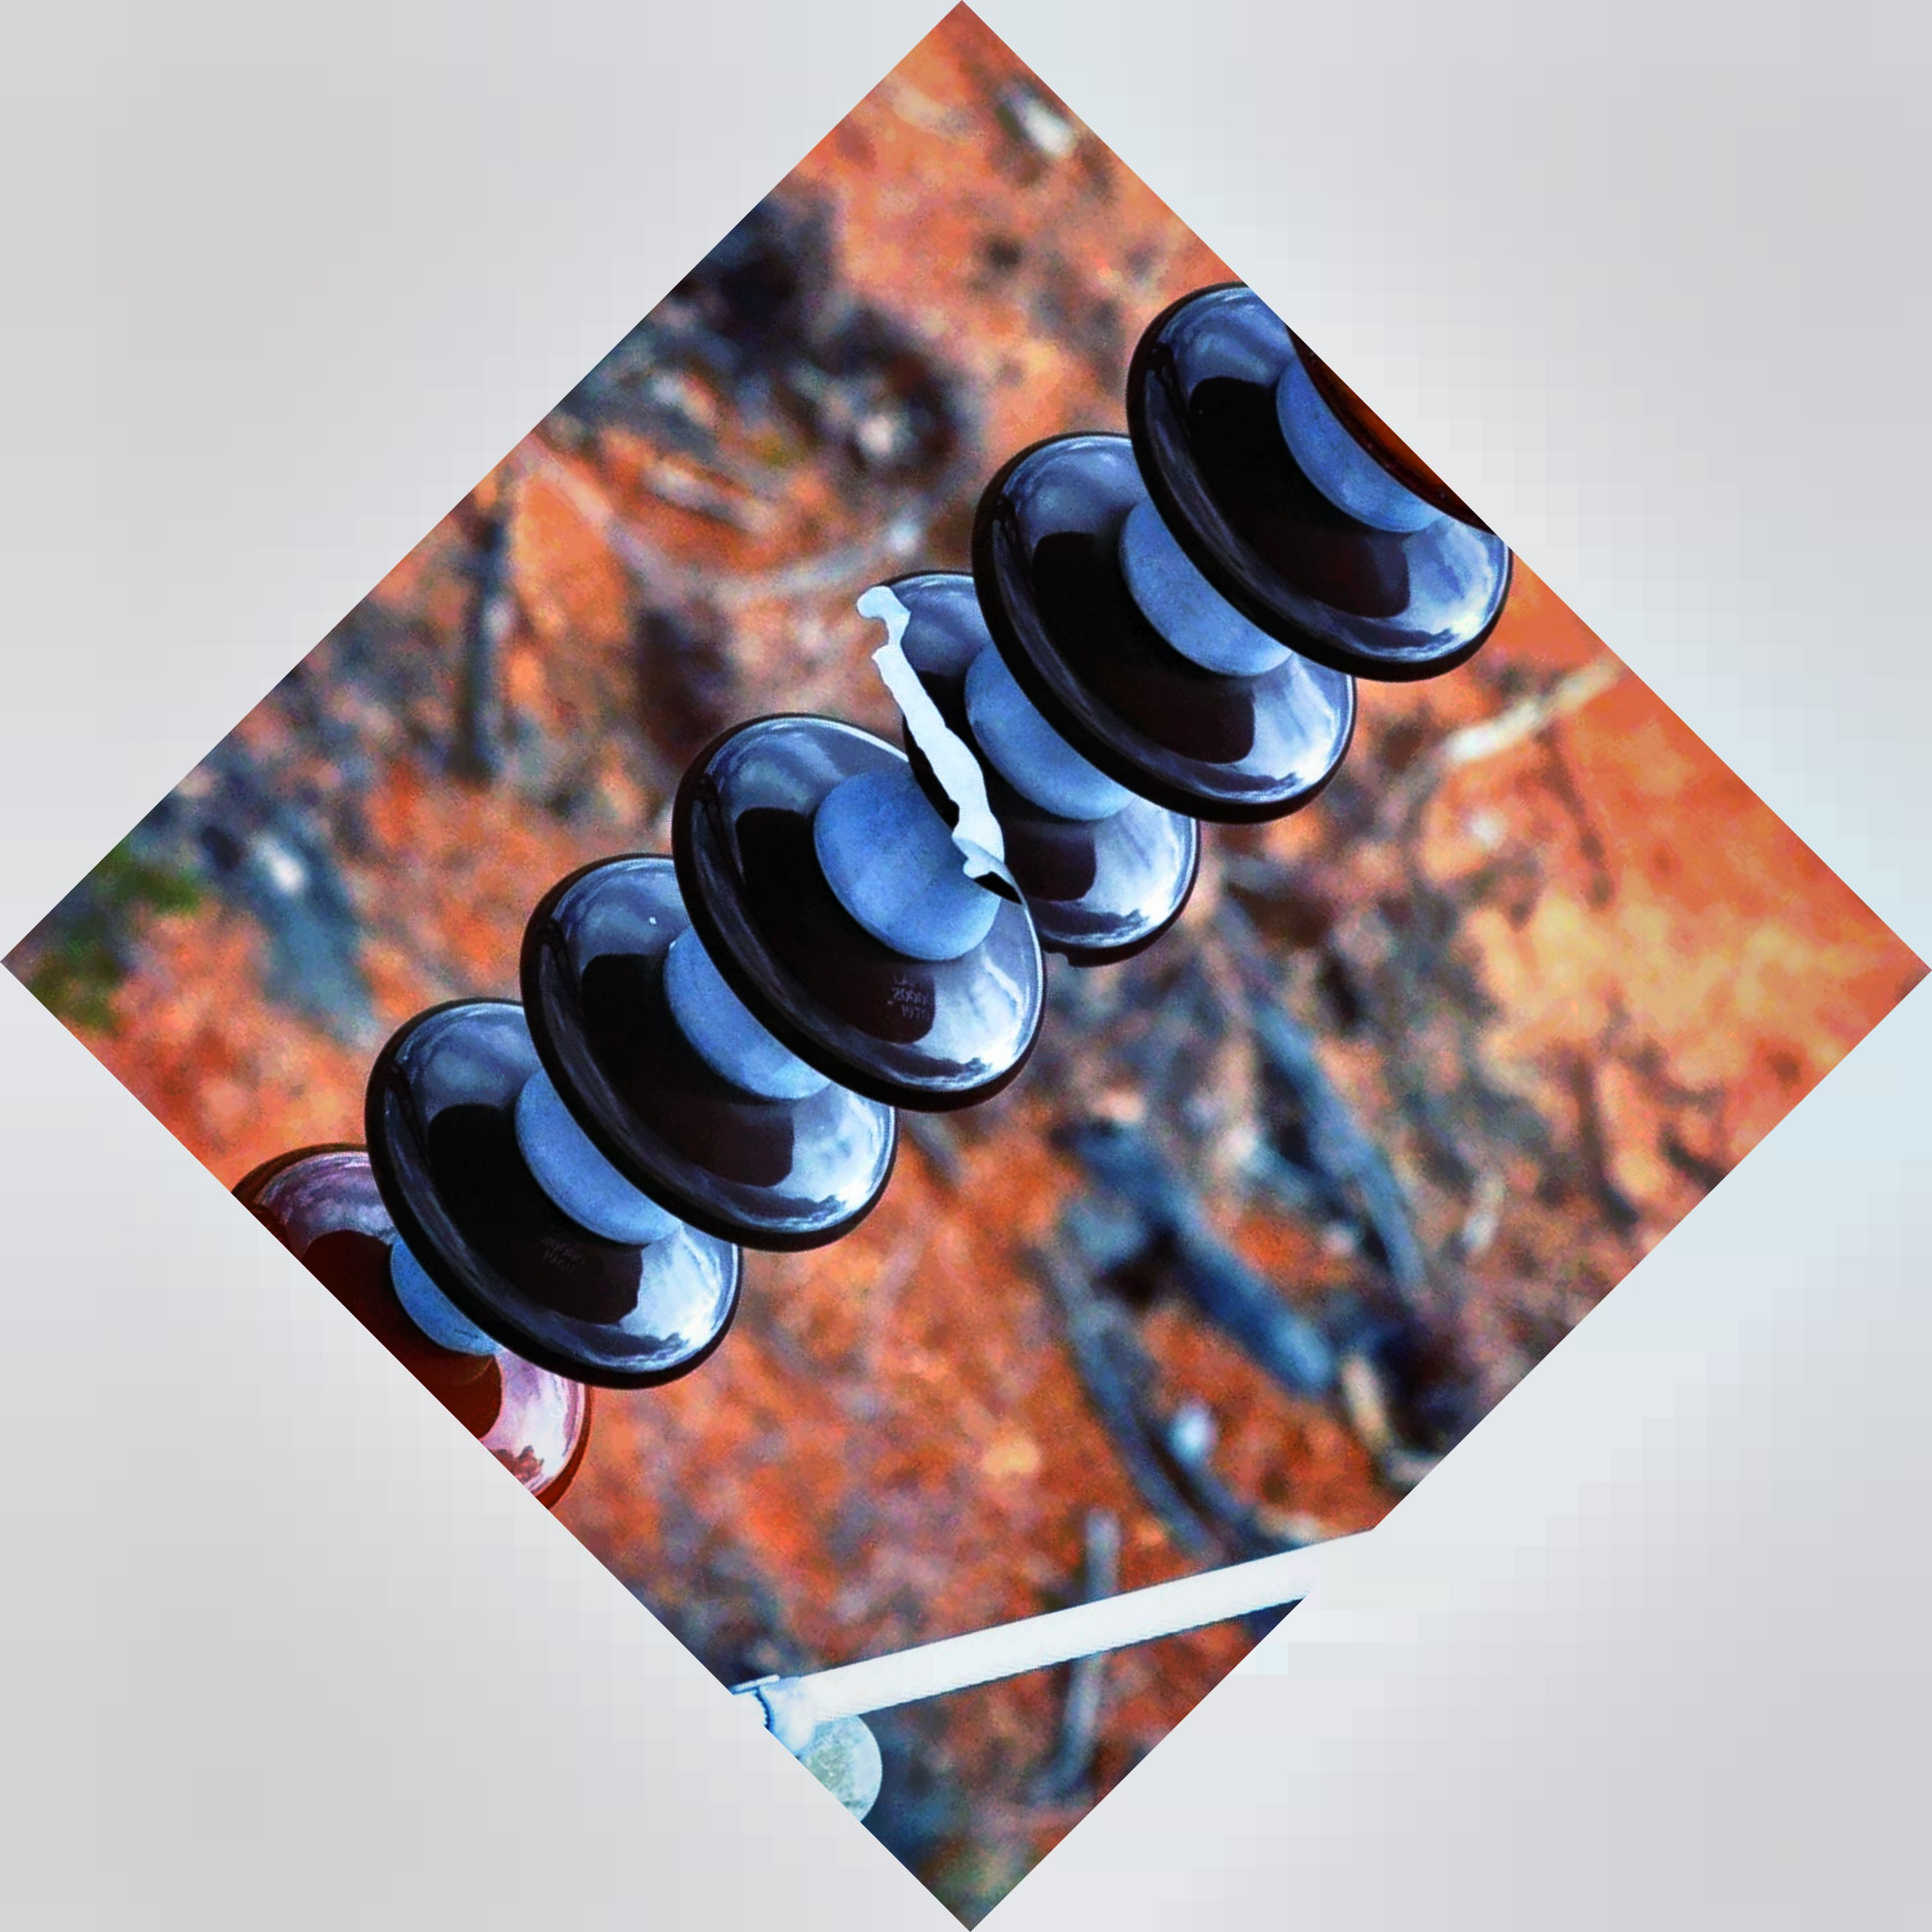insulator breakage: (821, 561, 1208, 984)
